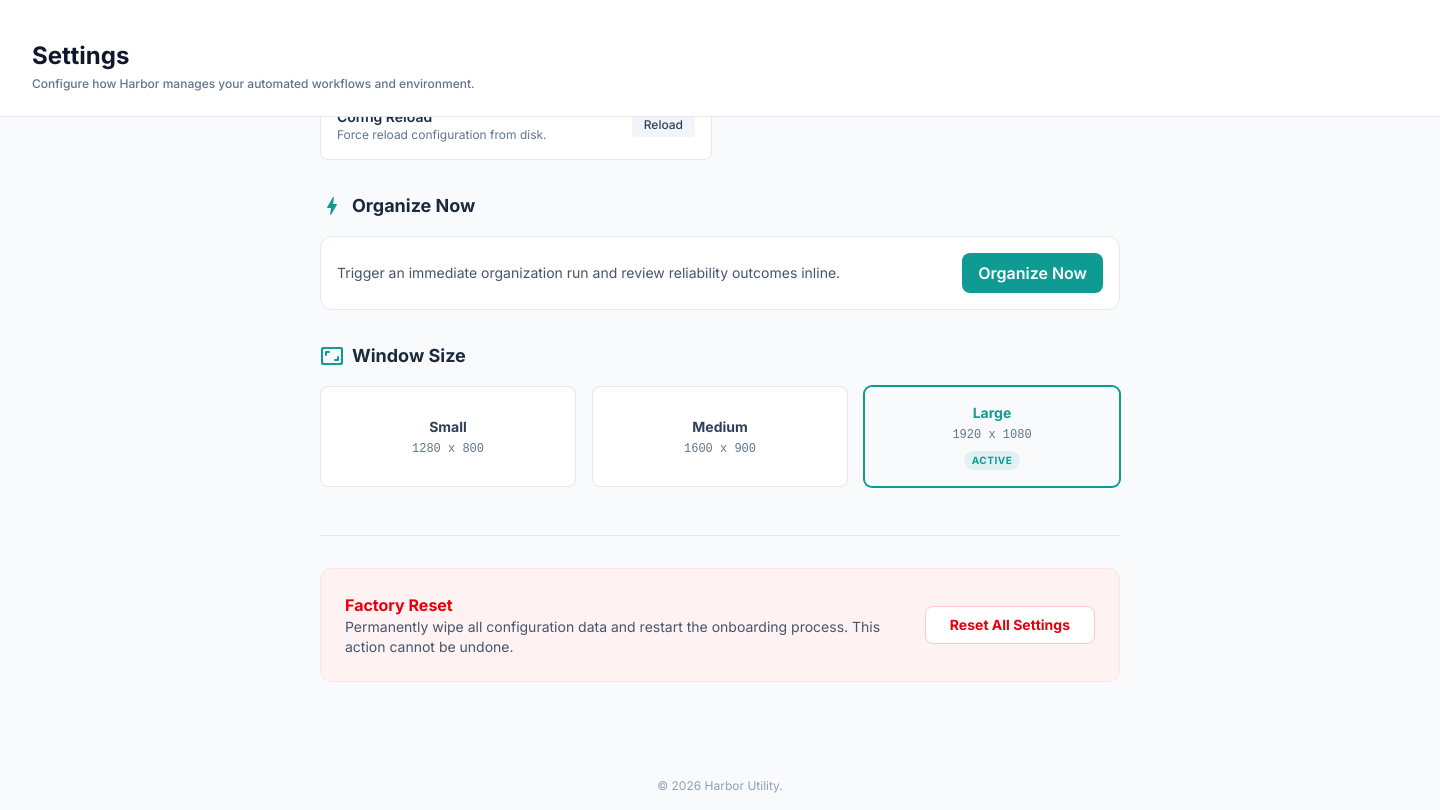
Scenario: SettingsPage › opens reset confirmation modal when Reset All Settings is clicked
(page scrolled)
Step 1. Click the button "Reset All Settings" → (1010, 625), box [925, 606, 1095, 644]
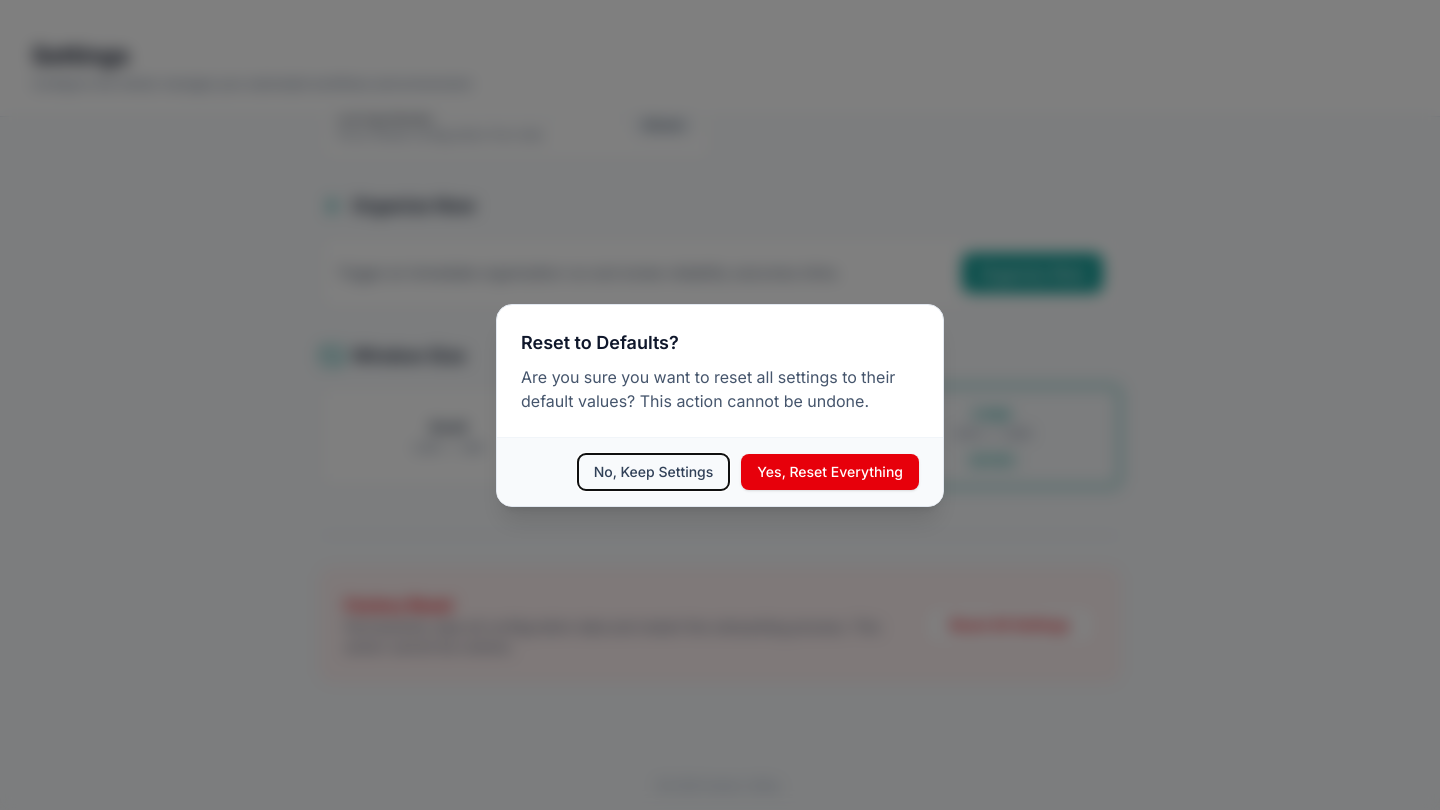
Expected: the heading "Reset to Defaults?" is shown, [521, 332, 679, 352]
